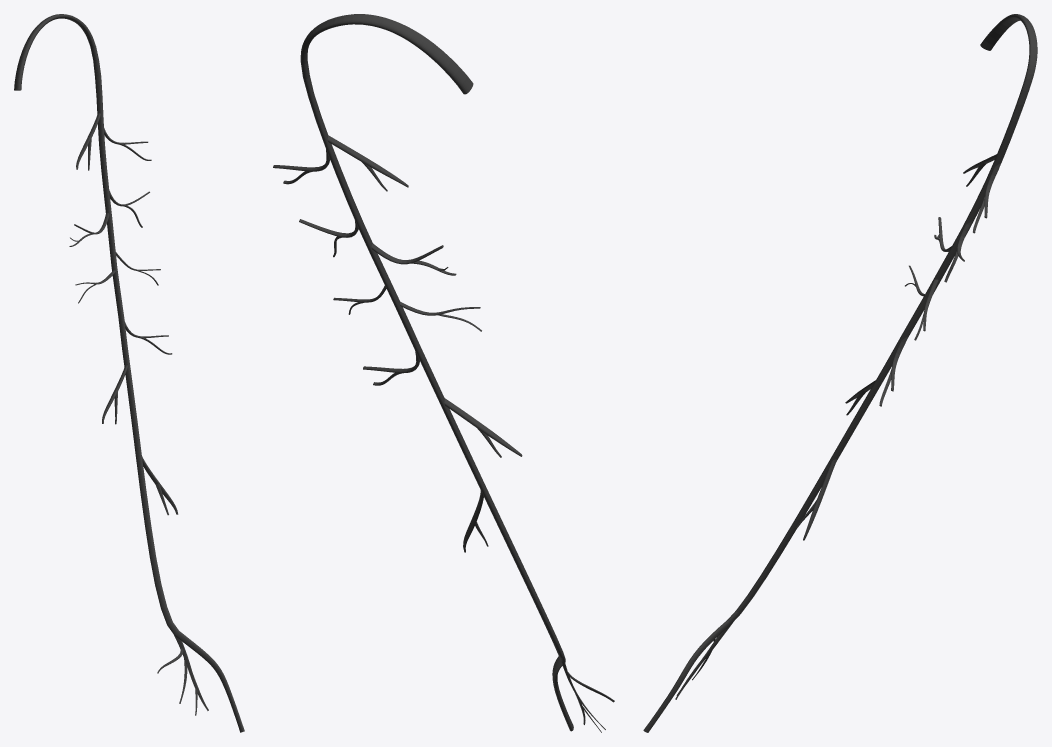
Rendered from N_10_vagus_recurrent.glb.
The picture shows the model from 3 angles, left to right: view 1: azimuth 30°, elevation 25°; view 2: azimuth 150°, elevation 25°; view 3: azimuth 270°, elevation 25°; orthographic projection. The views are drawn at different scales.
Visible parts, largest first — view 1: N_10_vagus_recurrent; view 2: N_10_vagus_recurrent; view 3: N_10_vagus_recurrent.
Part boxes in pixels (bbox=[...]): N_10_vagus_recurrent: bbox=[14, 14, 244, 732]; N_10_vagus_recurrent: bbox=[273, 14, 614, 732]; N_10_vagus_recurrent: bbox=[643, 14, 1037, 732].
Bounding box in the file's own units: 0.00372 × 0.0162 × 0.0083.
Materials: 1 (1 with a texture image).
